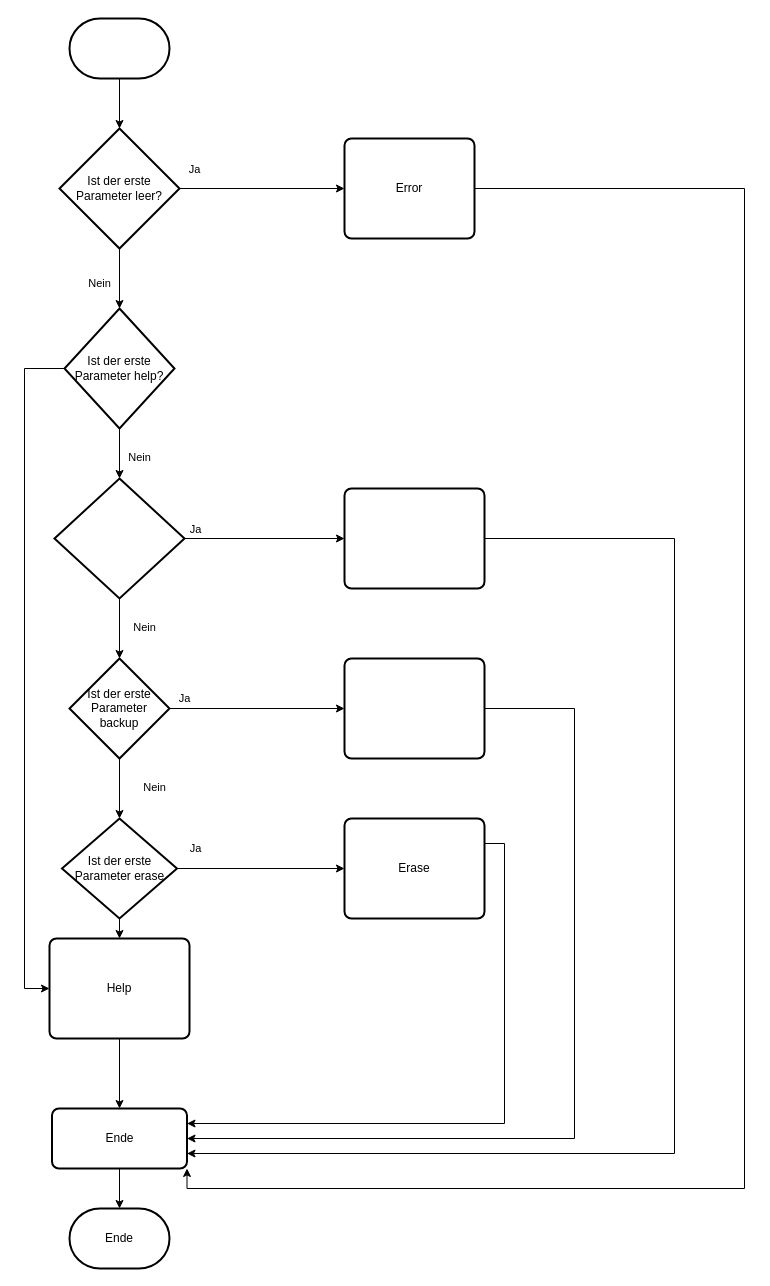
Some shapes in this 770 by 1286 pixel diagram are drawn without their labels. Each missing label, with the box of its shape:
Backup: (343, 657, 485, 759)
create: (343, 487, 485, 589)
Ist der erste Parameter create: (53, 477, 185, 599)
Start: (68, 17, 170, 79)
